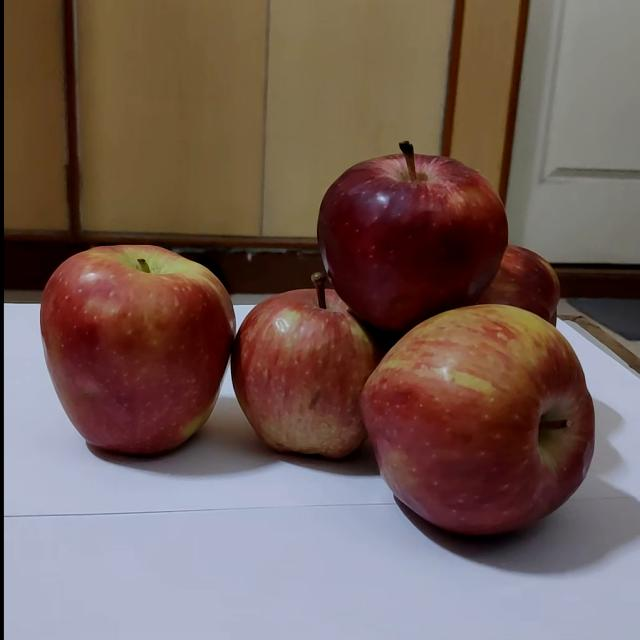apple: (354, 293, 602, 543), (0, 231, 242, 485), (296, 128, 512, 348), (215, 271, 395, 471), (393, 219, 586, 359)
